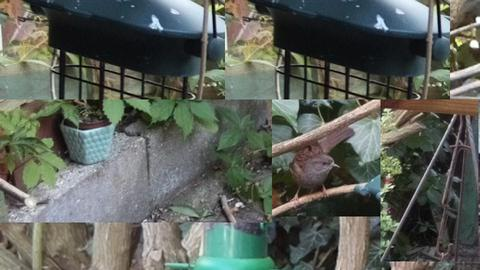dunnock: (289, 124, 356, 208)
